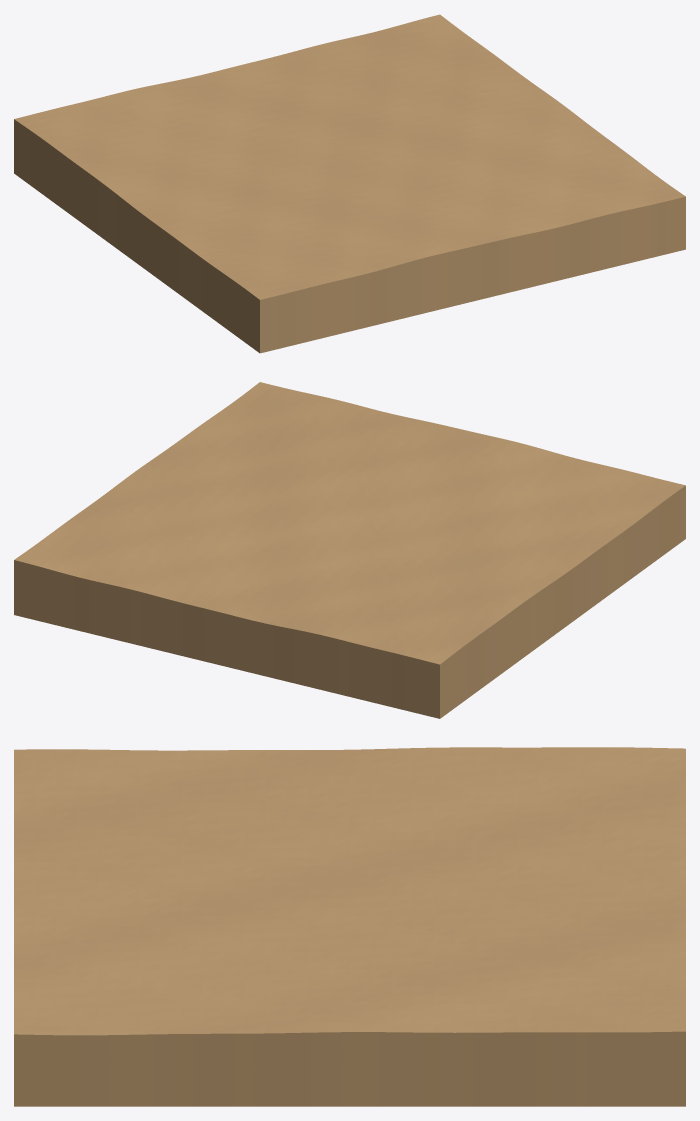
Rendered from bed_floor.glb.
3 renders of one model, top to bottom at view 1: azimuth 30°, elevation 25°; view 2: azimuth 150°, elevation 25°; view 3: azimuth 270°, elevation 25°, orthographic. The views are drawn at different scales.
Visible parts, largest first — view 1: FloorStudy; view 2: FloorStudy; view 3: FloorStudy.
Part boxes in pixels (<box>): FloorStudy: <box>14,14,685,353</box>; FloorStudy: <box>14,382,685,718</box>; FloorStudy: <box>14,747,685,1106</box>.
Size of the model in its own units: 8 by 1 by 8.
